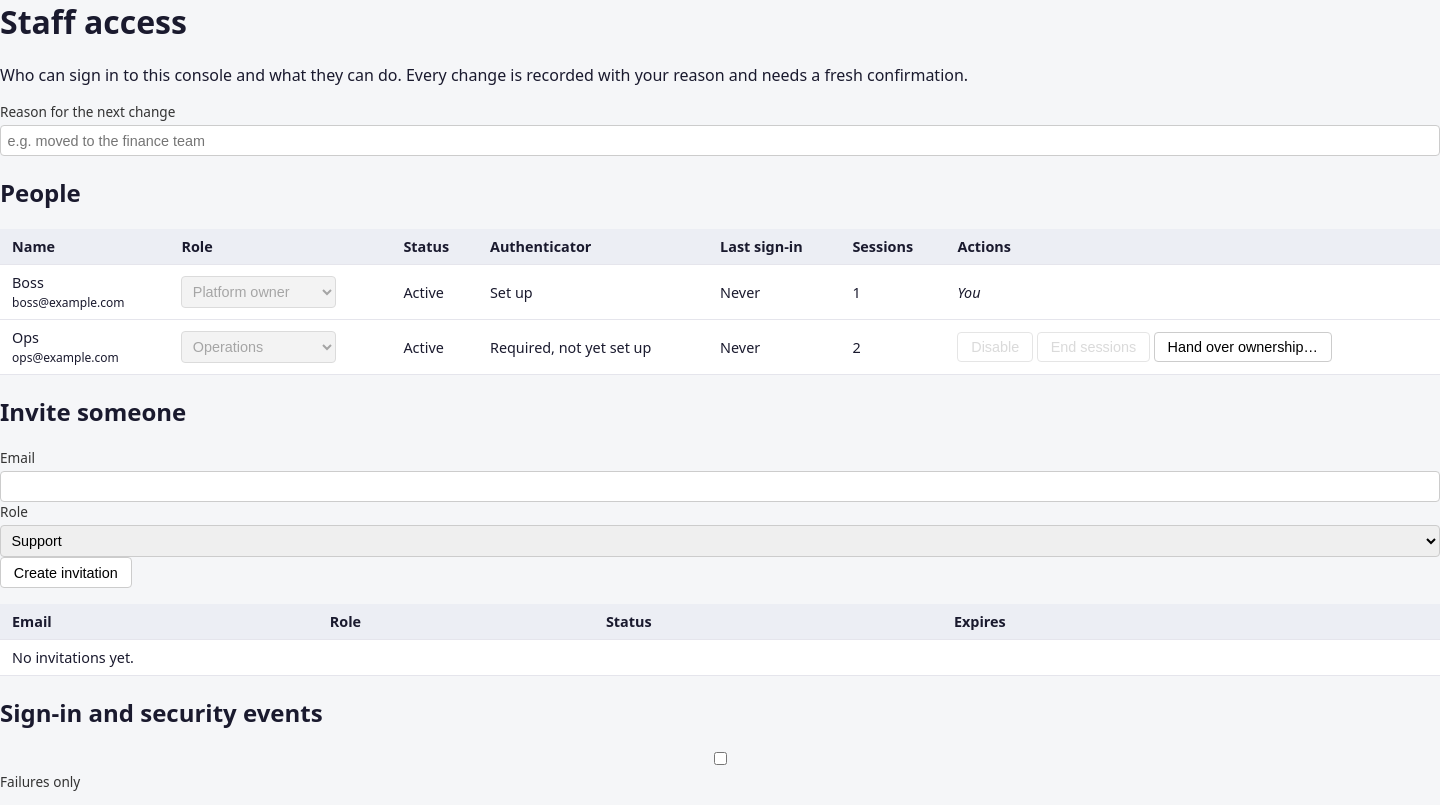
Scenario: staff access page › shows the server's message when a change is refused
In the field labelled "Reason for the next change": (720, 141) left=0, top=125, right=1439, bottom=156, type "testing it"
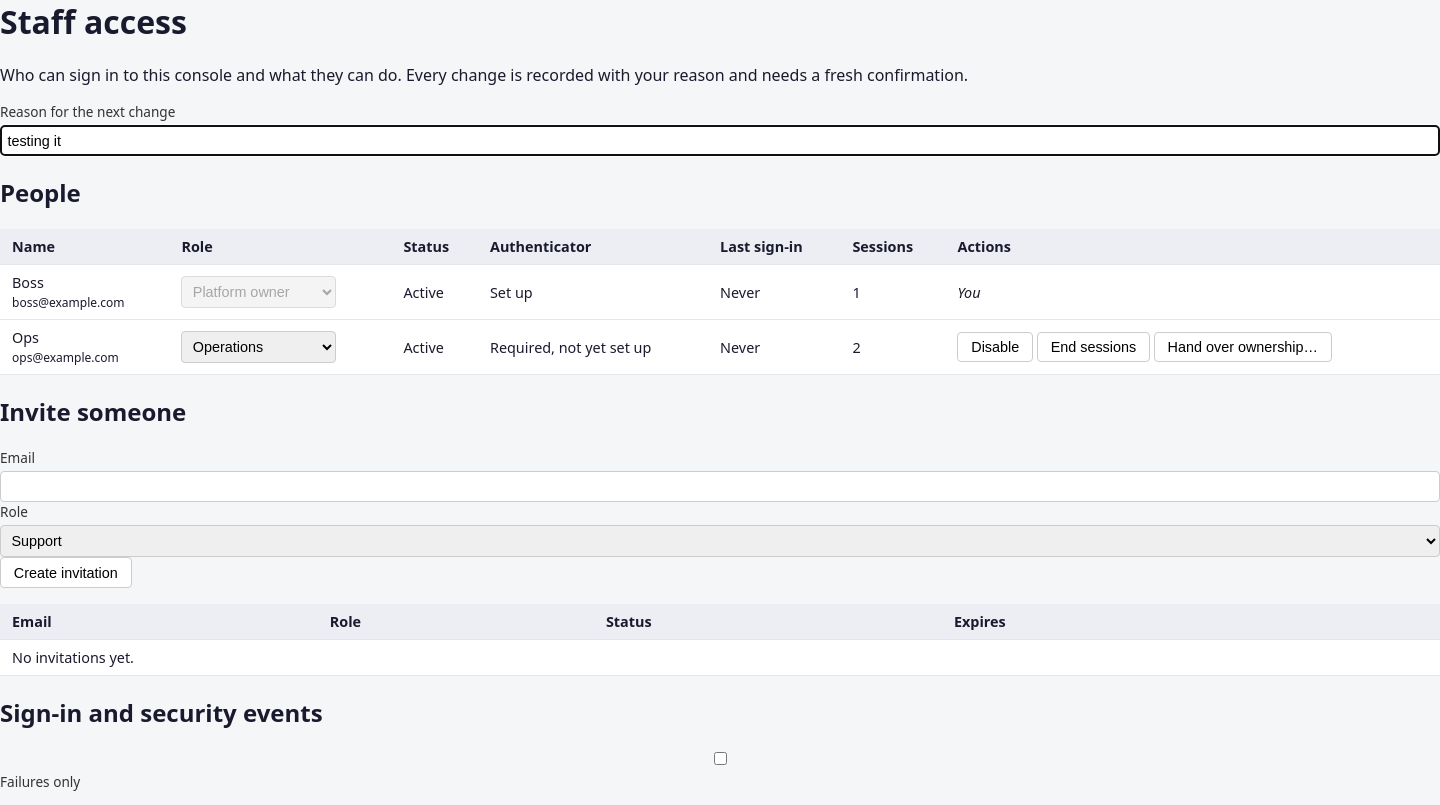
Click the button "Disable": (995, 347) left=958, top=332, right=1033, bottom=362
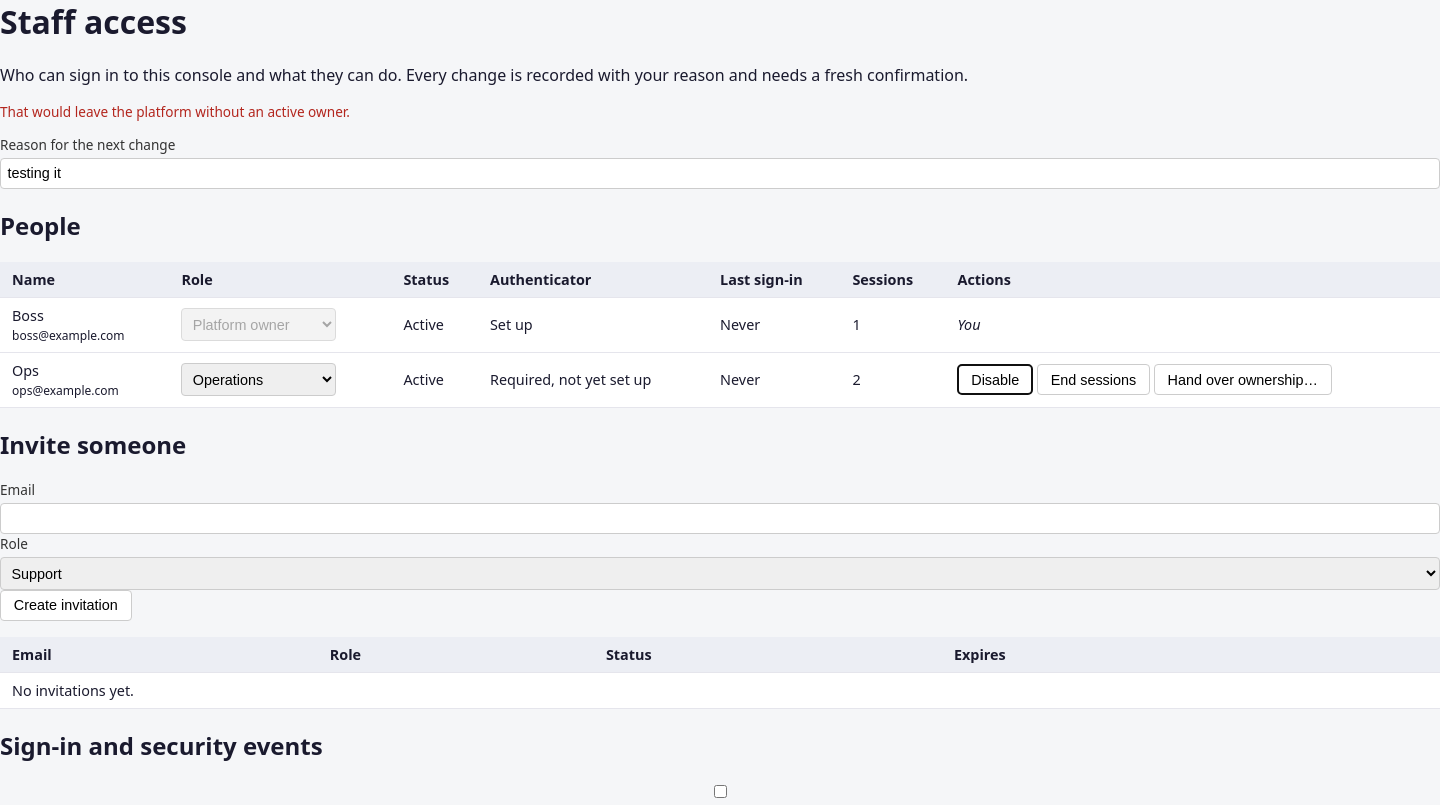
Expected: the message shows "without an active owner", left=0, top=102, right=350, bottom=121
